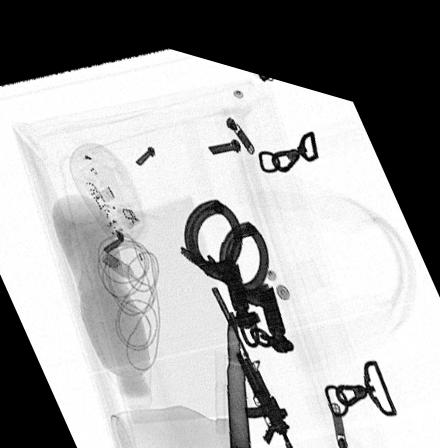Bullet: (223, 296, 251, 445)
Gun: (209, 271, 299, 448)
HandCuffs: (178, 185, 293, 337)
